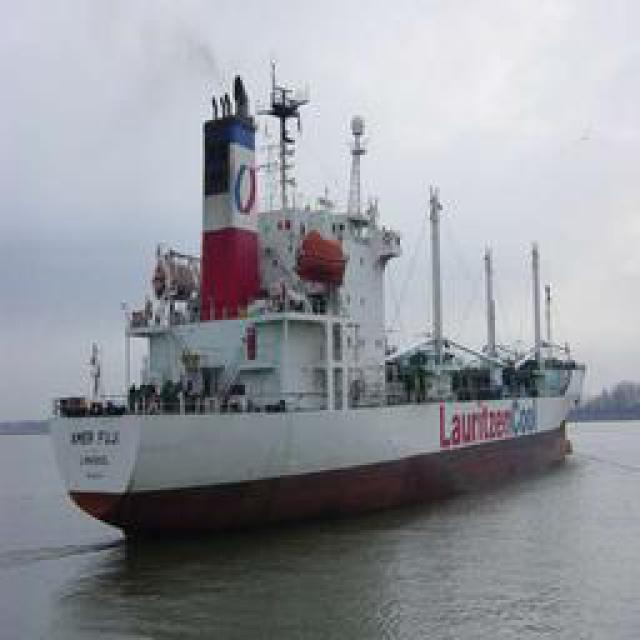Ship: (46, 58, 586, 543)
